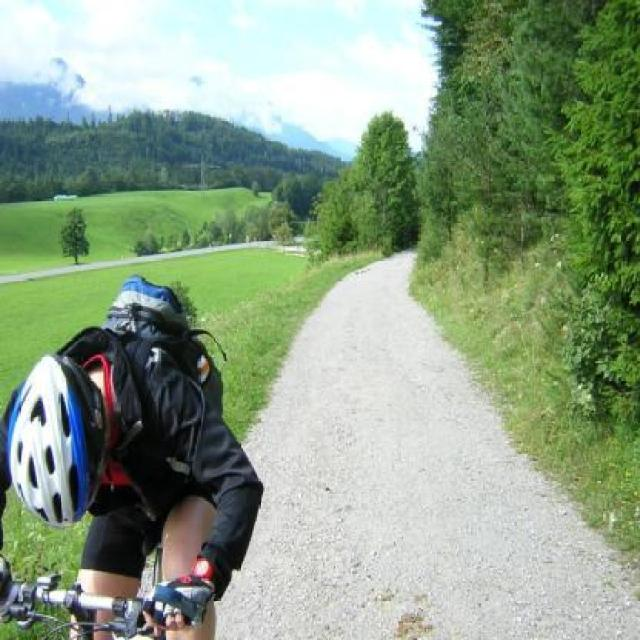backpack: (98, 271, 197, 352)
